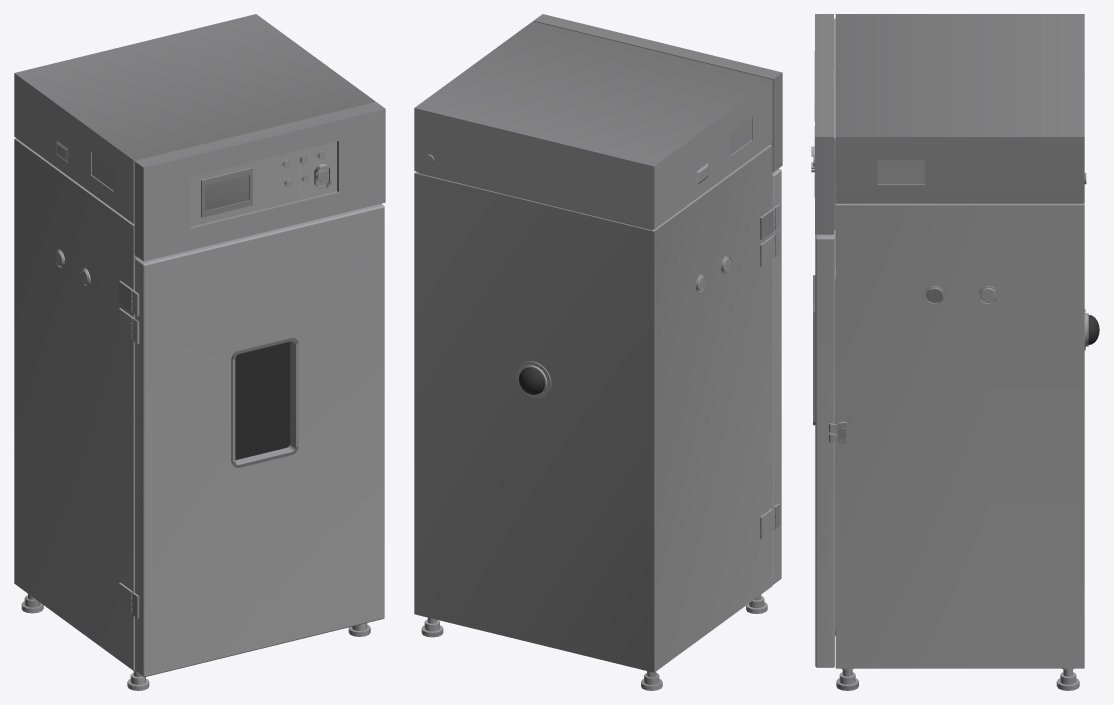
Rendered from SM_高温箱_002.fbx.
3 renders of one model, left to right at view 1: azimuth 30°, elevation 25°; view 2: azimuth 150°, elevation 25°; view 3: azimuth 270°, elevation 25°, orthographic. The views are drawn at different scales.
Parts seen in each view (by area): view 1: SM_高温箱_002; view 2: SM_高温箱_002; view 3: SM_高温箱_002.
Part boxes in pixels (x1,y1,x2,y2): SM_高温箱_002: [14, 14, 385, 690]; SM_高温箱_002: [414, 14, 782, 690]; SM_高温箱_002: [811, 14, 1099, 690].
Size of the model in its own units: 716 by 1472 by 694.
